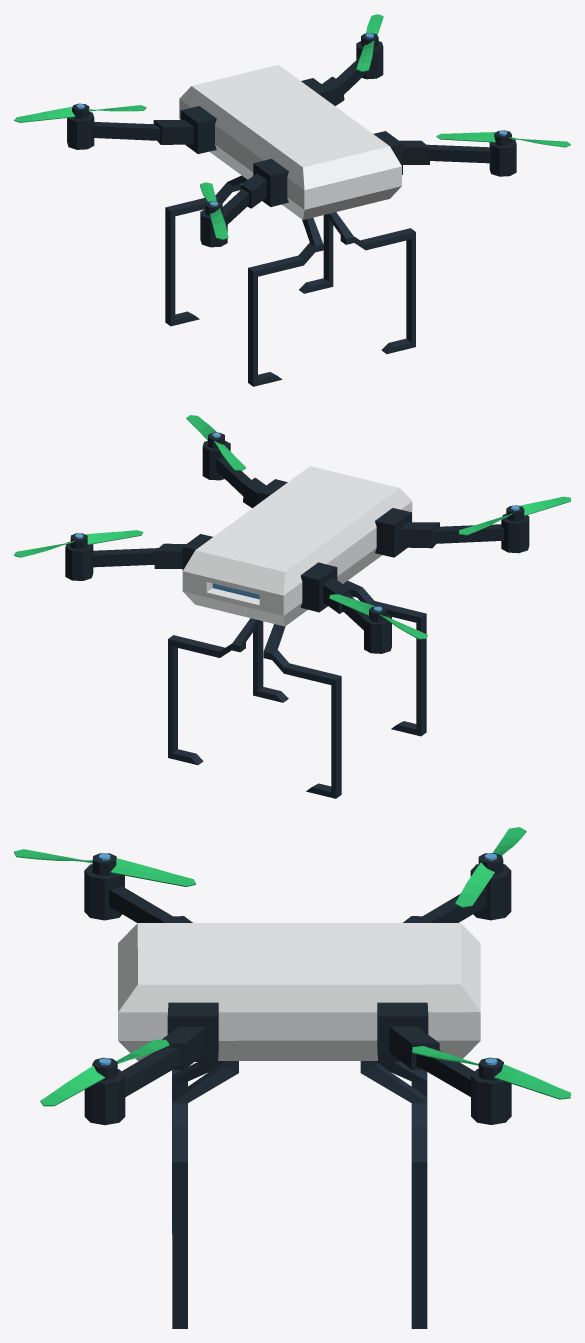
Rendered from Robot_004.fbx.
3 renders of one model, top to bottom at view 1: azimuth 30°, elevation 25°; view 2: azimuth 150°, elevation 25°; view 3: azimuth 270°, elevation 25°, orthographic. The views are drawn at different scales.
Visible parts, largest first — view 1: Robot_004, Robot_004.007, Robot_004.005, Robot_004.006, Robot_004.002, Robot_004.008, Robot_004.004, Robot_004.001, Robot_004.003; view 2: Robot_004, Robot_004.006, Robot_004.008, Robot_004.007, Robot_004.005, Robot_004.001, Robot_004.003, Robot_004.002, Robot_004.004; view 3: Robot_004, Robot_004.008, Robot_004.005, Robot_004.003, Robot_004.001, Robot_004.004, Robot_004.002, Robot_004.007, Robot_004.006.
Boxes of the visible parts, x1,y1,x2,y2 form: Robot_004: [67, 41, 516, 247]; Robot_004.007: [248, 218, 323, 386]; Robot_004.005: [326, 212, 415, 353]; Robot_004.006: [165, 175, 247, 326]; Robot_004.002: [14, 103, 146, 122]; Robot_004.008: [299, 214, 333, 293]; Robot_004.004: [436, 130, 570, 147]; Robot_004.001: [356, 14, 383, 71]; Robot_004.003: [200, 182, 228, 239]; Robot_004: [65, 440, 529, 653]; Robot_004.006: [263, 624, 341, 798]; Robot_004.008: [168, 618, 260, 765]; Robot_004.007: [343, 581, 426, 736]; Robot_004.005: [253, 621, 288, 702]; Robot_004.001: [14, 530, 143, 557]; Robot_004.003: [459, 496, 570, 535]; Robot_004.002: [329, 594, 427, 639]; Robot_004.004: [186, 415, 245, 470]; Robot_004: [84, 864, 511, 1125]; Robot_004.008: [360, 1061, 427, 1328]; Robot_004.005: [172, 1061, 238, 1328]; Robot_004.003: [14, 849, 195, 886]; Robot_004.001: [412, 1046, 570, 1099]; Robot_004.004: [40, 1039, 169, 1106]; Robot_004.002: [455, 827, 526, 907]; Robot_004.007: [172, 1061, 223, 1234]; Robot_004.006: [376, 1061, 427, 1096].
Bounding box in the file's own units: 74.49 × 39.62 × 63.01.
